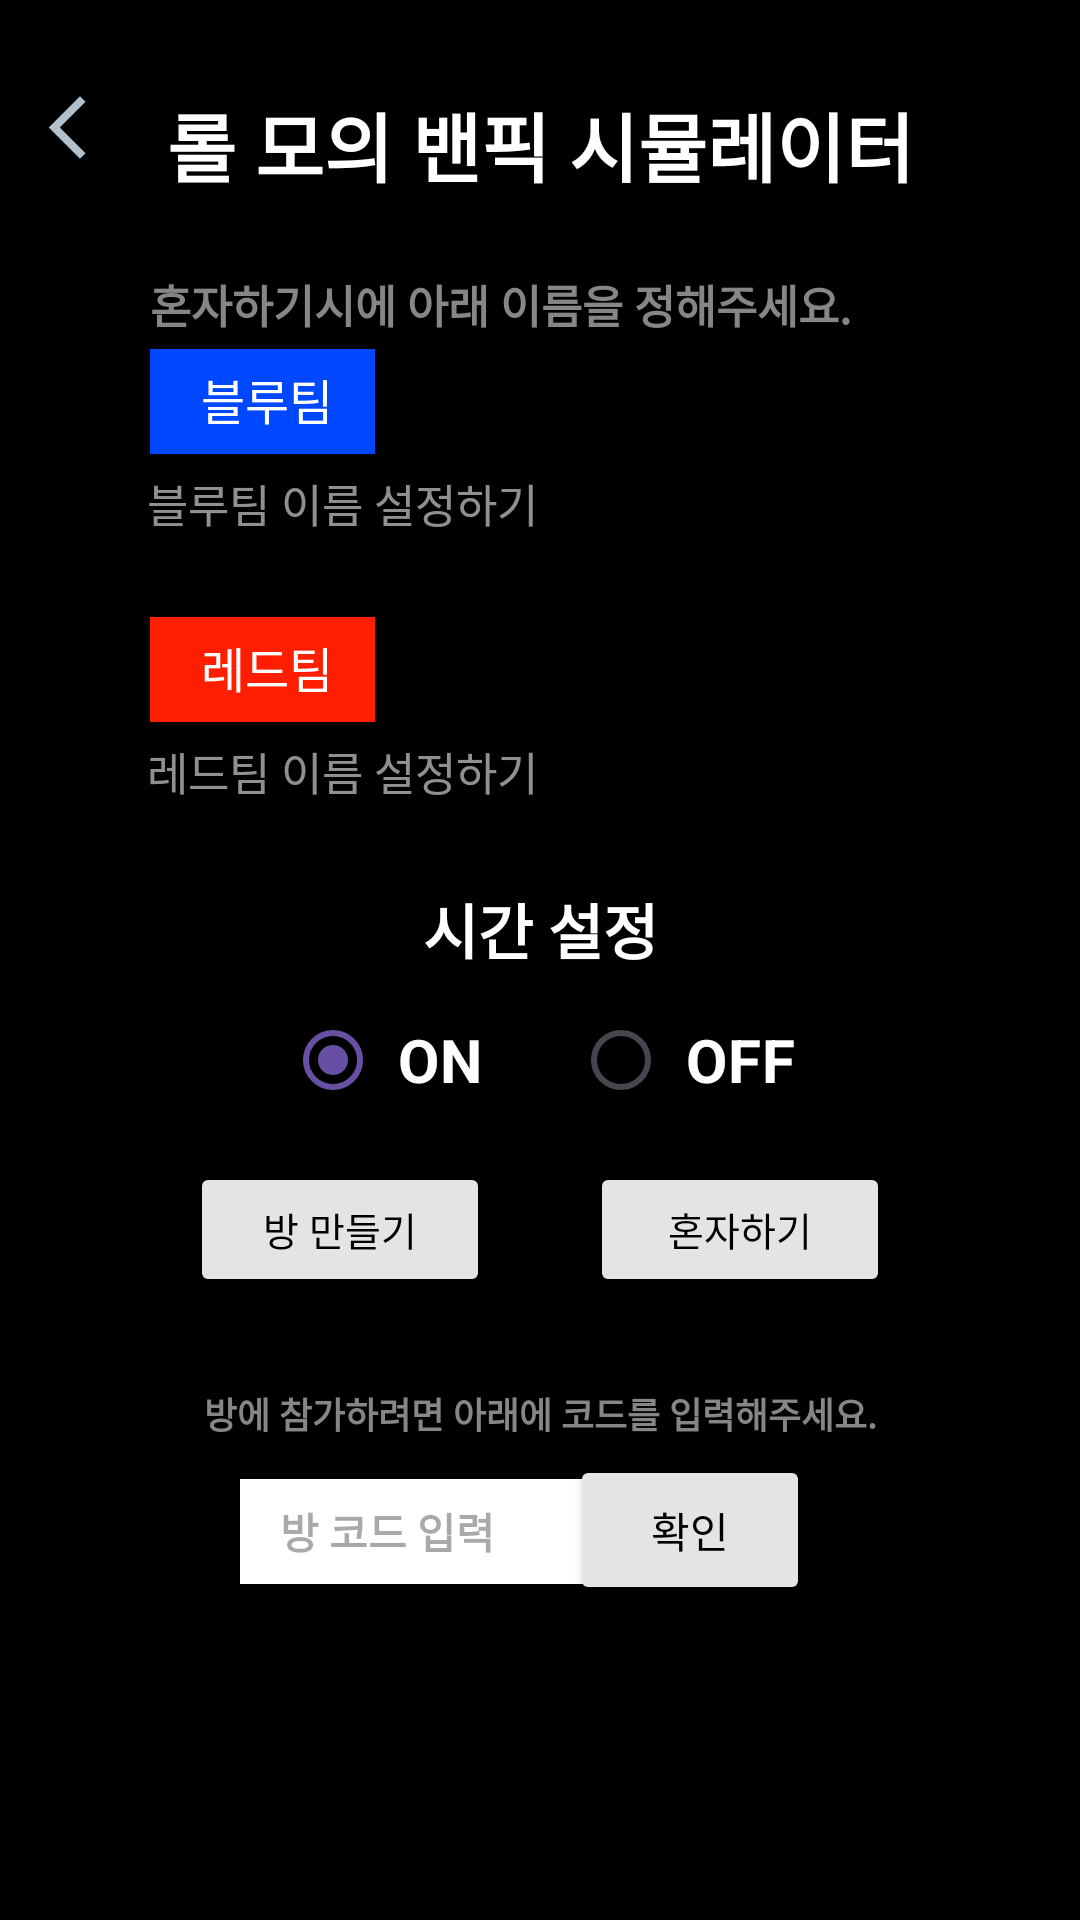

Where to tap for icons on this 1080px x 1920px app screen, as [x,y]:
pageback: [67,127]
